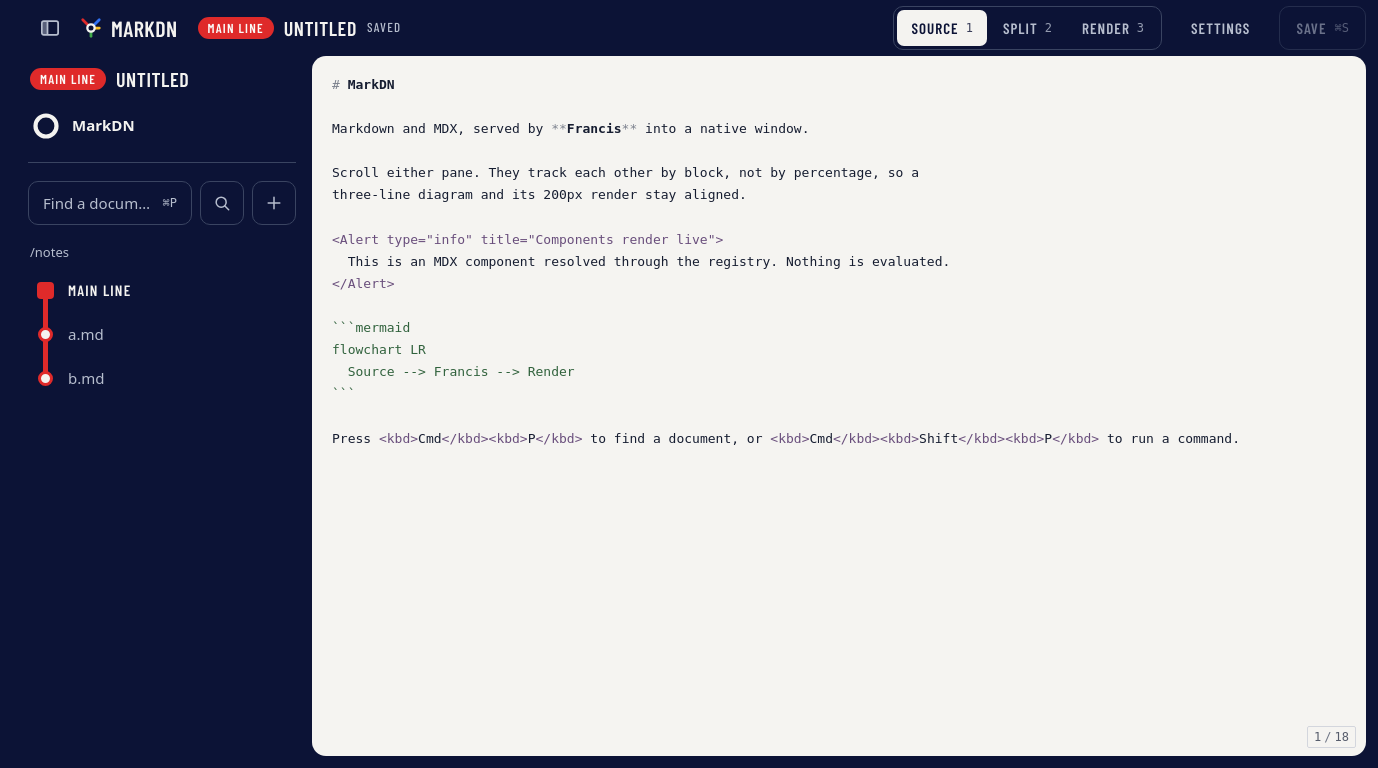
Test case: the sidebar › opens again when New needs its name field
The width and height of the screenshot is (1378, 768).
Expected: the list "Main line a.md b.md" is shown, 68,281 -> 131,388
Click the button named "Hide sidebar": (50, 28) 28,6 -> 72,50
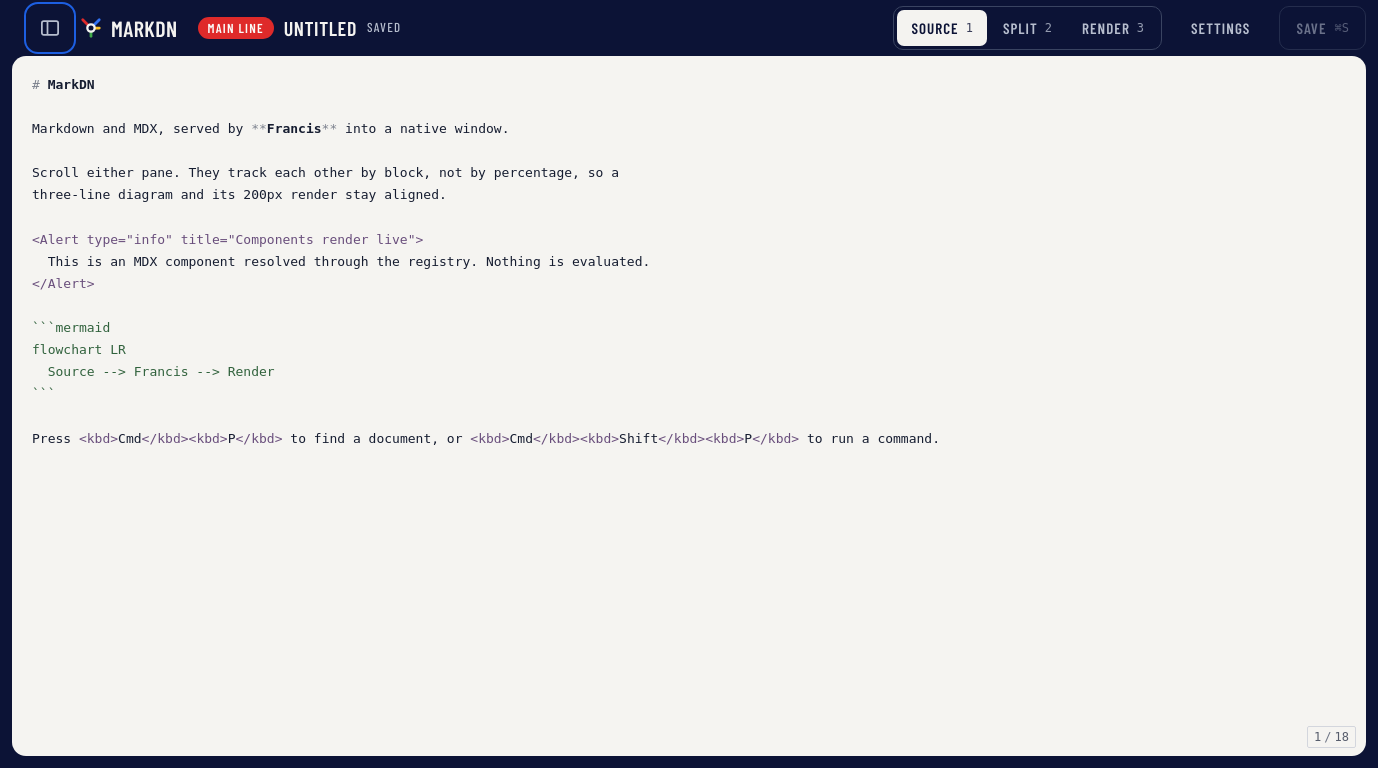
Type keys "{Meta>}n{/Meta}"
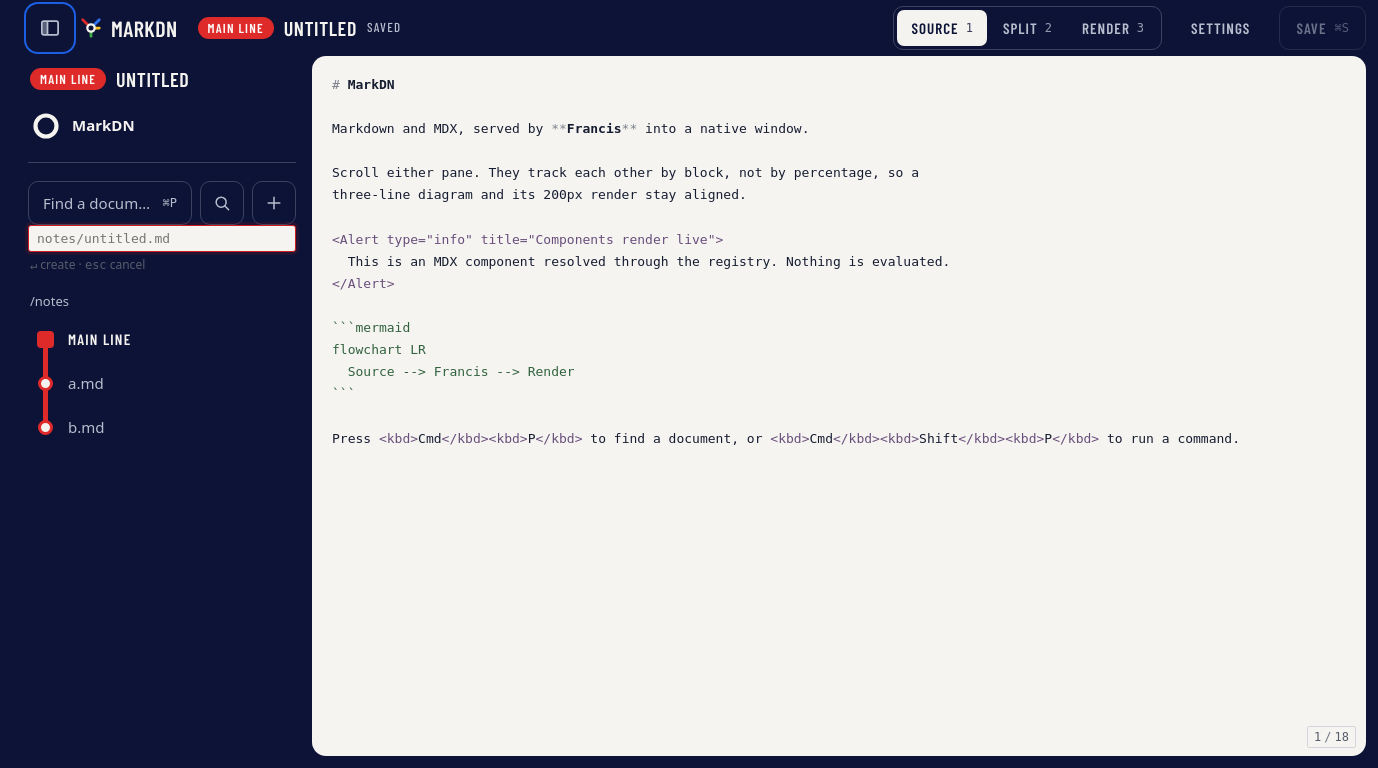
Expected: the field named "New document path" is shown, 28,225 -> 296,252
Expected: the list "Main line a.md b.md" is shown, 68,330 -> 131,437
